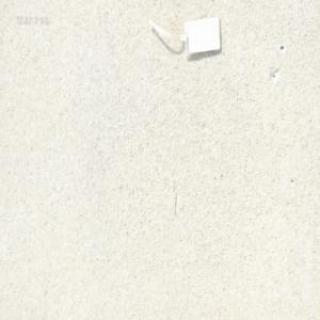LuggageTagtrack_idkeyframe: (144, 11, 222, 60)
